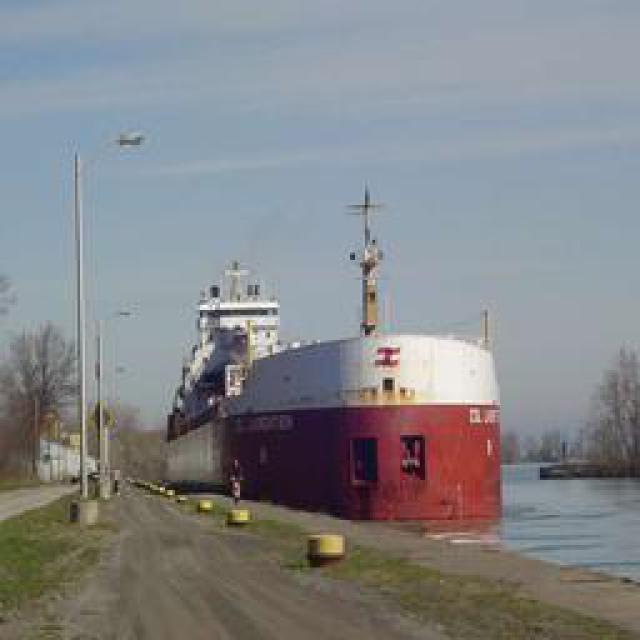Ship: (153, 190, 508, 533)
